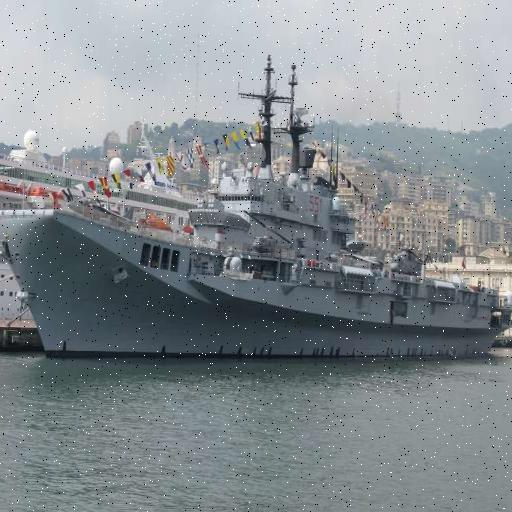Portanaves: (1, 55, 512, 363)
